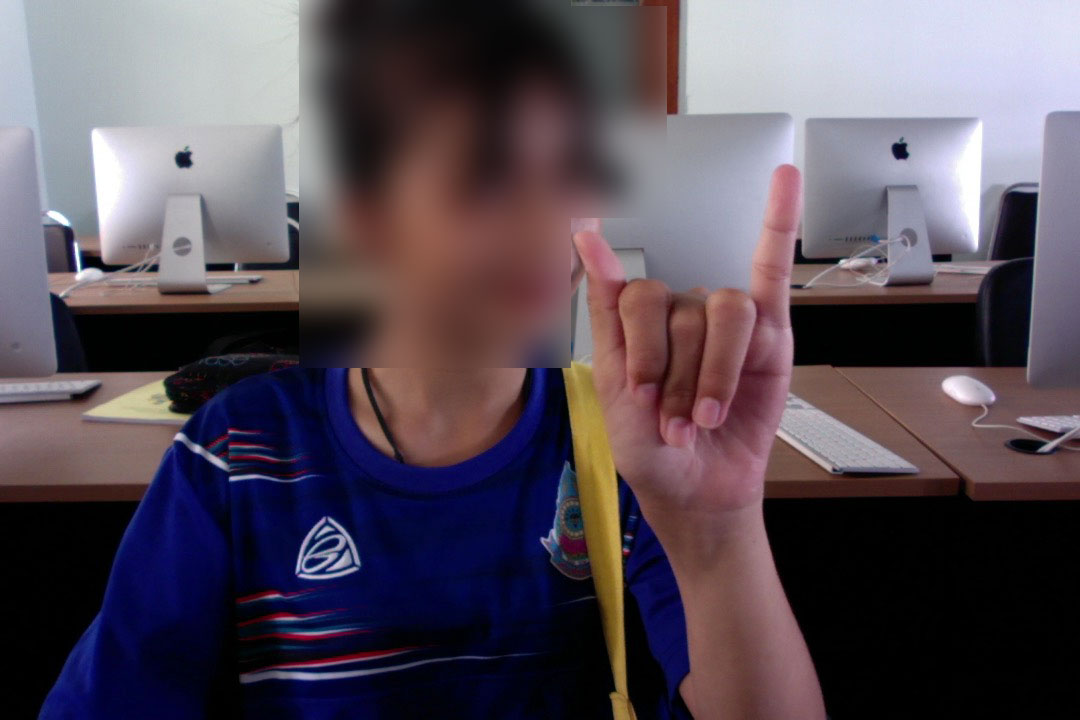yor: (563, 157, 815, 549)
